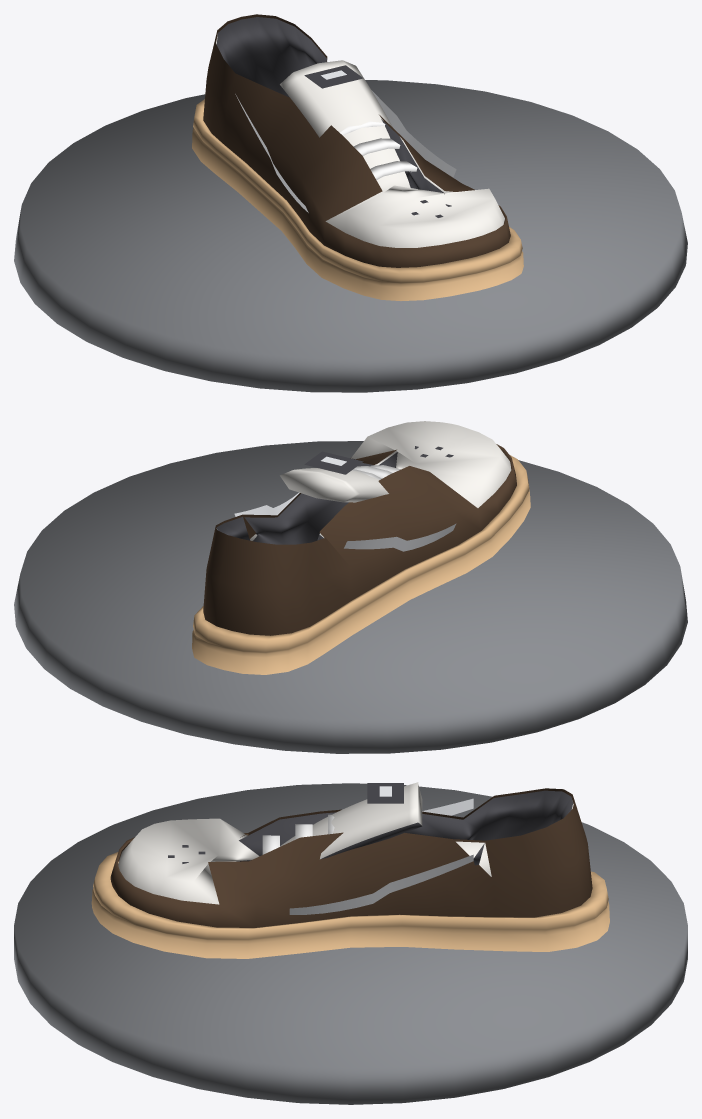
Rendered from test_connected_sneaker.glb.
The picture shows the model from 3 angles, top to bottom: view 1: azimuth 30°, elevation 25°; view 2: azimuth 150°, elevation 25°; view 3: azimuth 270°, elevation 25°; orthographic projection.
Parts seen in each view (by area): view 1: Sneaker_Pedestal, Sneaker_Design_Layers, Sneaker_Upper, Sneaker_Sole, Sneaker_Tongue, Sneaker_Laces; view 2: Sneaker_Pedestal, Sneaker_Design_Layers, Sneaker_Sole, Sneaker_Upper, Sneaker_Tongue; view 3: Sneaker_Pedestal, Sneaker_Design_Layers, Sneaker_Sole, Sneaker_Upper, Sneaker_Tongue, Sneaker_Laces.
Part boxes in pixels (left/top/right/bottom): Sneaker_Pedestal: left=14, top=80, right=687, bottom=392; Sneaker_Design_Layers: left=203, top=14, right=510, bottom=267; Sneaker_Upper: left=216, top=17, right=504, bottom=247; Sneaker_Sole: left=192, top=99, right=523, bottom=300; Sneaker_Tongue: left=280, top=60, right=410, bottom=192; Sneaker_Laces: left=340, top=121, right=417, bottom=179; Sneaker_Pedestal: left=14, top=441, right=687, bottom=753; Sneaker_Design_Layers: left=203, top=444, right=516, bottom=635; Sneaker_Sole: left=192, top=455, right=530, bottom=674; Sneaker_Upper: left=216, top=421, right=511, bottom=544; Sneaker_Tongue: left=280, top=451, right=388, bottom=502; Sneaker_Pedestal: left=14, top=783, right=687, bottom=1104; Sneaker_Design_Layers: left=110, top=788, right=592, bottom=927; Sneaker_Sole: left=91, top=852, right=609, bottom=958; Sneaker_Upper: left=118, top=790, right=573, bottom=904; Sneaker_Tongue: left=280, top=782, right=422, bottom=859; Sneaker_Laces: left=262, top=814, right=334, bottom=854.
Size of the model in its own units: 0.3383 by 0.0905 by 0.33.
